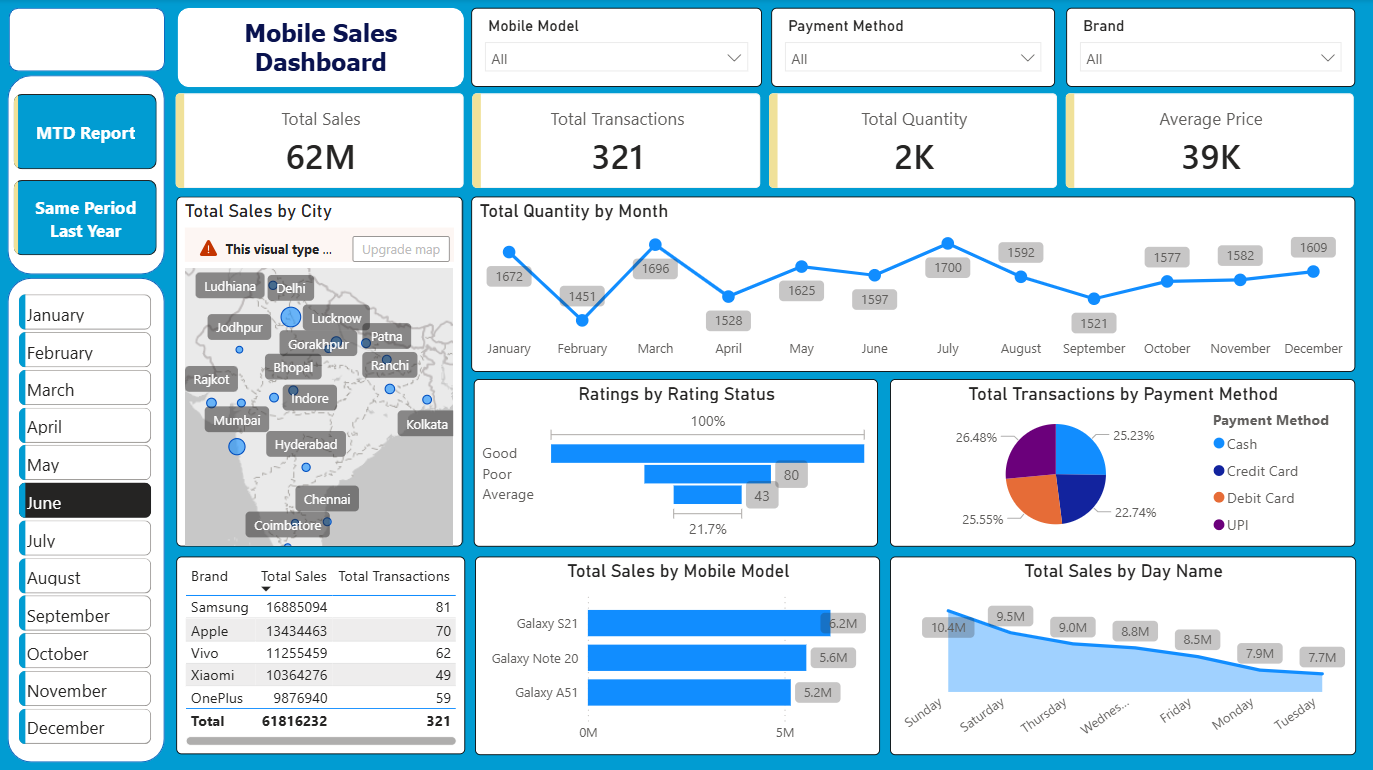

Layout of this report page (visuals, bound fields, positions):
{"tool":"powerbi","page":{"name":"Dashboard","canvas":[1280,720],"ordinal":0},"visuals":[{"type":"shape","box":[8.1,8.1,145.3,59.3],"z":0},{"type":"shape","box":[7.3,70.7,146.3,185.4],"z":1000},{"type":"shape","box":[7.5,259.8,146.3,450.9],"z":2000},{"type":"advancedSlicerVisual","fields":{"Values":["Custom_Calendar.Date.Variation.Date Hierarchy.Month"]},"box":[13.3,269.3,133.3,433.3],"z":3000},{"type":"cardVisual","fields":{"Data":["Sales_Data.Total Sales","Sales_Data.Total Transactions","Sales_Data.Total Quantity","Sales_Data.Average Price"]},"box":[146.5,70.4,1133.8,122.5],"z":4000},{"type":"shape","title":"Mobile Sales Dashboard","box":[165.3,8,266.7,74],"z":5000},{"type":"slicer","fields":{"Values":["Sales_Data.Mobile Model"]},"box":[438,8.7,270,73.3],"z":6000},{"type":"slicer","fields":{"Values":["Sales_Data.Payment Method"]},"box":[718,8.7,264,73.3],"z":7000},{"type":"slicer","fields":{"Values":["Sales_Data.Brand"]},"box":[991.5,8.5,269,73.2],"z":8000},{"type":"map","fields":{"Category":["Sales_Data.City"],"Size":["Sales_Data.Total Sales"]},"box":[164.5,183.9,266.1,325.8],"z":9000},{"type":"lineChart","fields":{"Category":["Custom_Calendar.Date.Variation.Date Hierarchy.Month"],"Y":["Sales_Data.Total Quantity"]},"box":[438.7,183.9,822.6,162.9],"z":10000},{"type":"funnel","title":"Ratings by Rating Status","fields":{"Y":["CountNonNull(Sales_Data.Customer Ratings)"],"Category":["Sales_Data.Rating Status"]},"box":[441.2,353.8,376.2,156.2],"z":11000},{"type":"pieChart","fields":{"Y":["Sales_Data.Total Transactions"],"Series":["Sales_Data.Payment Method"]},"box":[827.5,353.8,432.5,156.2],"z":12000},{"type":"clusteredBarChart","fields":{"Y":["Sales_Data.Total Sales"],"Category":["Sales_Data.Mobile Model"]},"box":[441.7,518.3,376.7,185],"z":13000},{"type":"areaChart","fields":{"Category":["Sales_Data.Day Name"],"Y":["Sales_Data.Total Sales"]},"box":[828.3,518.3,433.3,185],"z":14000},{"type":"tableEx","fields":{"Values":["Sales_Data.Brand","Sales_Data.Total Sales","Sales_Data.Total Transactions"]},"box":[164.3,518.6,268.6,184.3],"z":15000},{"type":"pageNavigator","box":[13.3,88.3,133.3,151.7],"z":15001}]}

Visuals, with their boxes in screenshot pixels (x1, y1, x2, y2), scaled from the page's 1280x720 canvas onto the 1373x770 screenshot:
shape: <box>9,9,165,72</box>
shape: <box>8,76,165,274</box>
shape: <box>8,278,165,760</box>
advancedSlicerVisual - Custom_Calendar.Date.Variation.Date Hierarchy.Month: <box>14,288,157,751</box>
cardVisual - Sales_Data.Total Sales x Sales_Data.Total Transactions: <box>157,75,1372,206</box>
"Mobile Sales Dashboard" shape: <box>177,9,463,88</box>
slicer - Sales_Data.Mobile Model: <box>470,9,759,88</box>
slicer - Sales_Data.Payment Method: <box>770,9,1053,88</box>
slicer - Sales_Data.Brand: <box>1064,9,1352,87</box>
map - Sales_Data.City x Sales_Data.Total Sales: <box>176,197,462,545</box>
lineChart - Custom_Calendar.Date.Variation.Date Hierarchy.Month x Sales_Data.Total Quantity: <box>471,197,1353,371</box>
"Ratings by Rating Status" funnel: <box>473,378,877,545</box>
pieChart - Sales_Data.Total Transactions x Sales_Data.Payment Method: <box>888,378,1352,545</box>
clusteredBarChart - Sales_Data.Total Sales x Sales_Data.Mobile Model: <box>474,554,878,752</box>
areaChart - Sales_Data.Day Name x Sales_Data.Total Sales: <box>888,554,1353,752</box>
tableEx - Sales_Data.Brand x Sales_Data.Total Sales: <box>176,555,464,752</box>
pageNavigator: <box>14,94,157,257</box>
